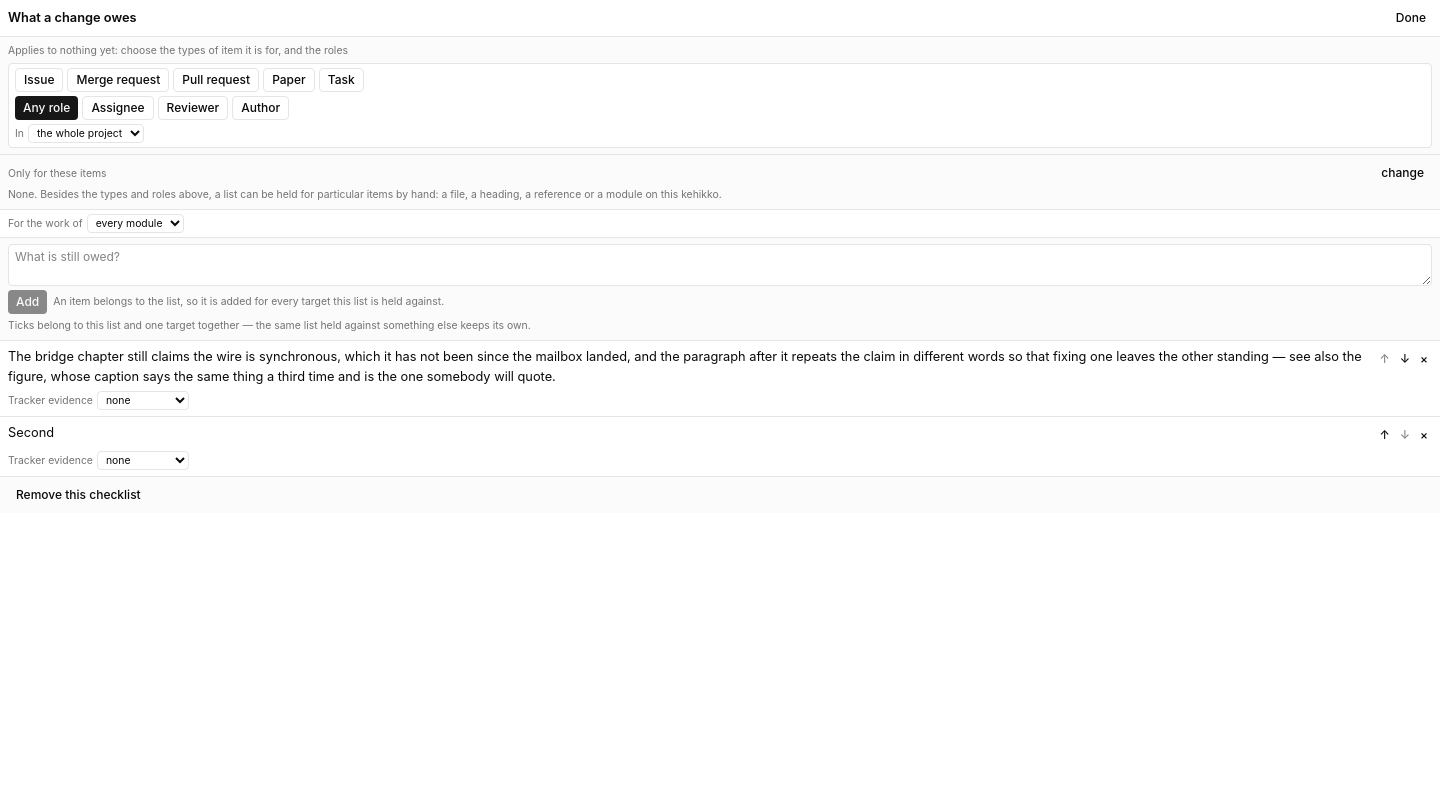
the edit page: what a list says, and what it is held against › the file the reader is standing in has its headings already open
Step 1. Click the button "change" → (1403, 173), box [1373, 161, 1432, 185]
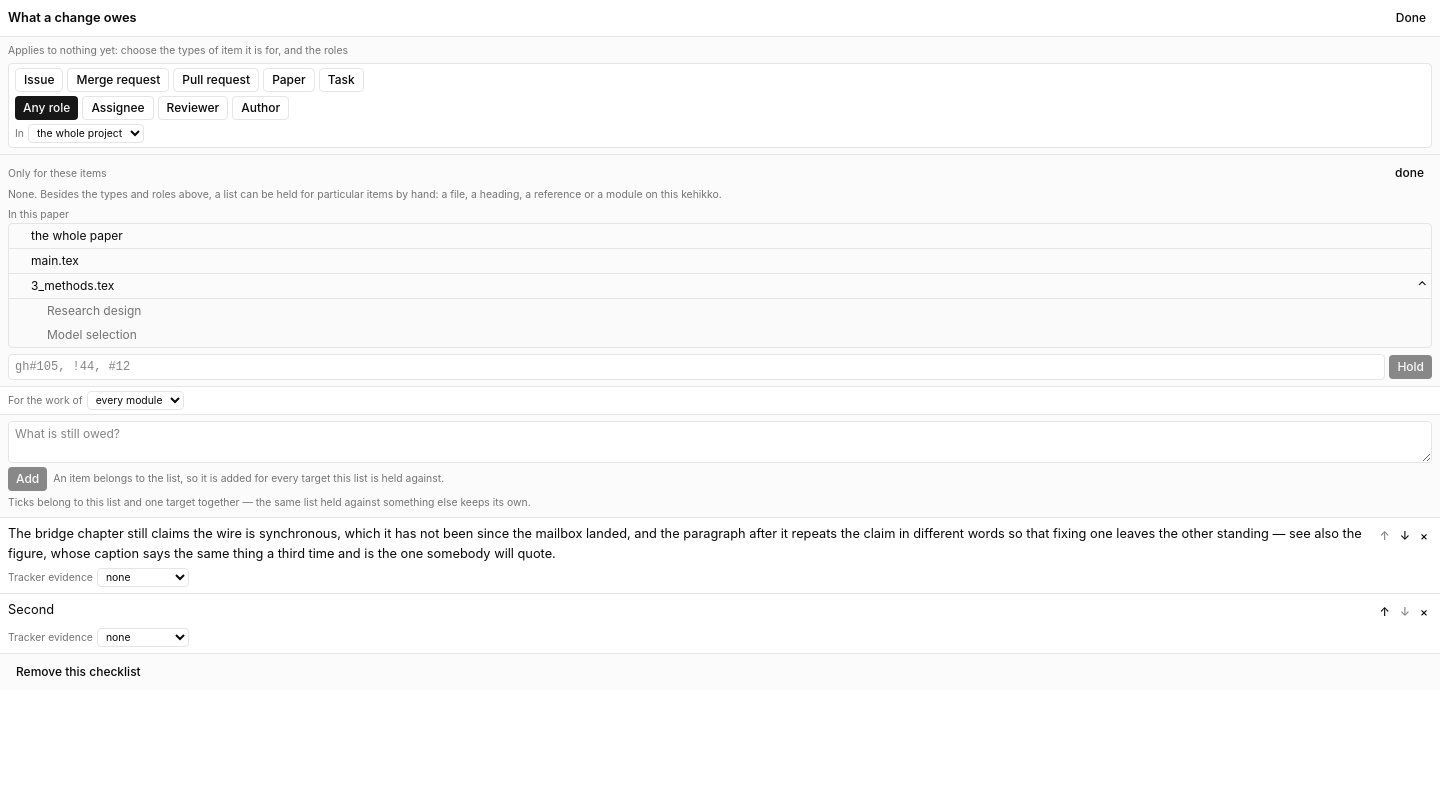
Result: the button "⌃" is shown at [1414, 274, 1431, 298]
Result: the text "Research design" is shown at [47, 303, 141, 318]
